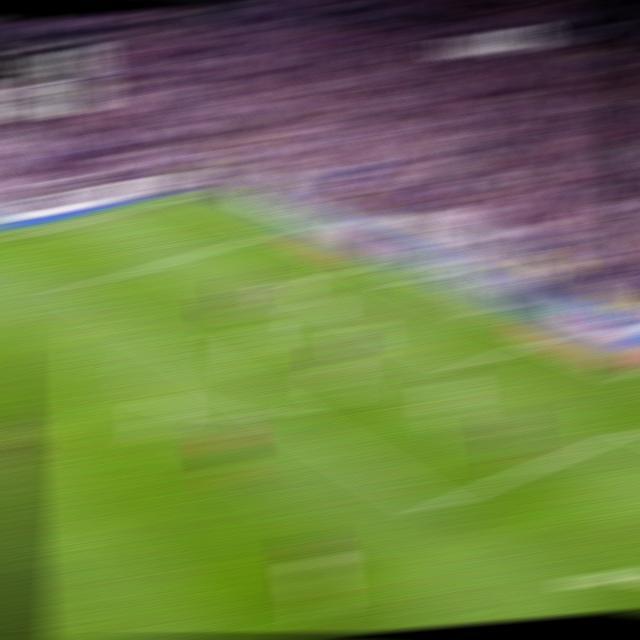bigarea_bottom_inner: (417, 492, 455, 521)
bigarea_top_inner: (57, 281, 87, 292)
bigarea_top_outter: (258, 223, 290, 234)
bottom_arc_area_intersection: (264, 403, 300, 422)
corner: (171, 190, 205, 201)
smallarea_top_inner: (279, 277, 311, 292)
top_arc_area_intersection: (141, 328, 175, 346)
